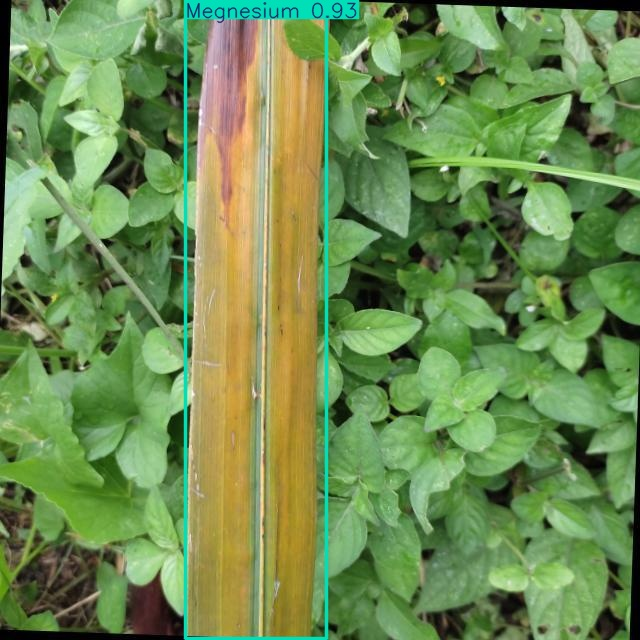Megnesium: (186, 0, 326, 639)
